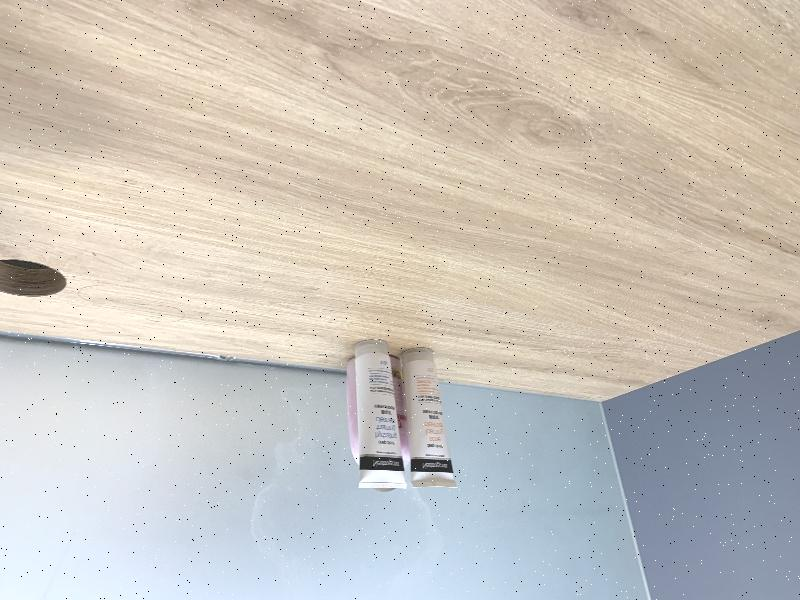AcneFoamingCleanser: (402, 347, 458, 489)
HydratingFoamingCleanser: (355, 339, 407, 488)
